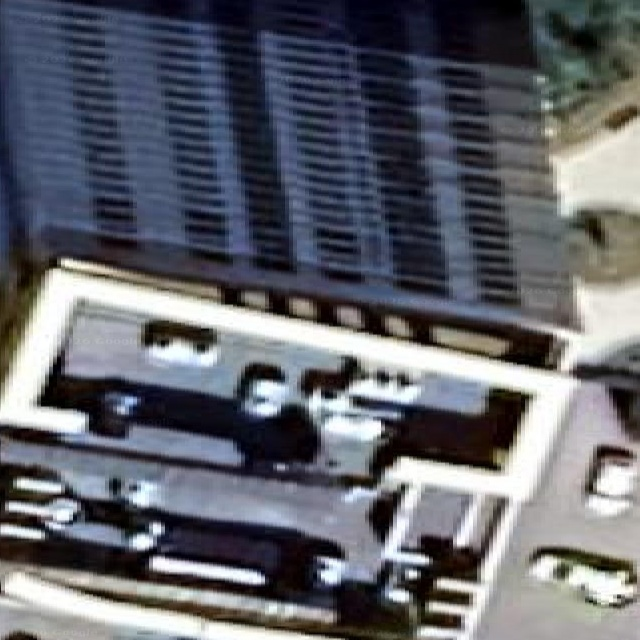car: (0, 495, 344, 600), (42, 497, 163, 551), (528, 547, 635, 606), (141, 320, 218, 367), (584, 447, 636, 515), (347, 368, 420, 406), (236, 363, 287, 417), (89, 390, 140, 436), (322, 412, 383, 440), (108, 475, 159, 507), (604, 103, 639, 129), (0, 631, 37, 639)
